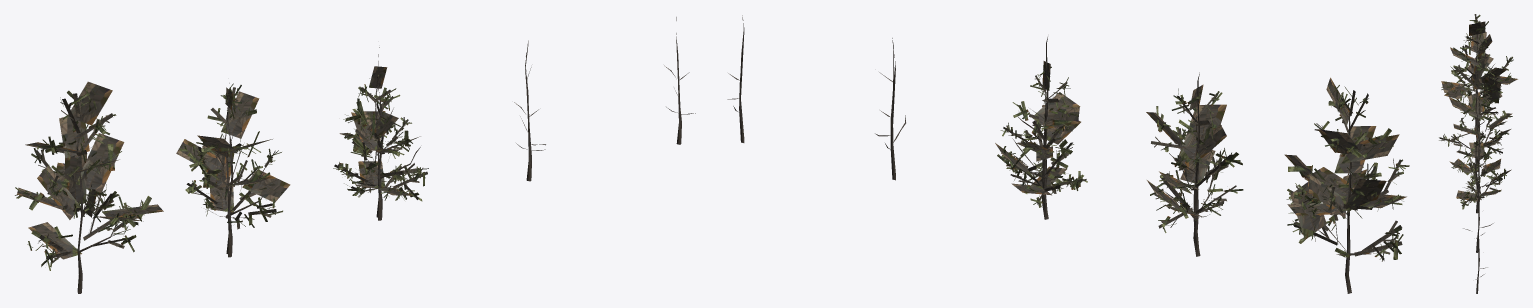
The model's file is pine_sapling_small.glb.
3 renders of one model, left to right at view 1: azimuth 30°, elevation 25°; view 2: azimuth 150°, elevation 25°; view 3: azimuth 270°, elevation 25°, orthographic. The views are drawn at different scales.
Visible parts, largest first — view 1: object 4, pine_sapling_small_c, pine_sapling_small_a, pine_sapling_small_b; view 2: object 4, pine_sapling_small_c, pine_sapling_small_a, pine_sapling_small_b; view 3: object 4, pine_sapling_small_c, pine_sapling_small_b, pine_sapling_small_a.
Part boxes in pixels (x1,y1,x2,y2): object 4: (15,66,428,270); pine_sapling_small_c: (355,17,695,220); pine_sapling_small_a: (63,89,392,293); pine_sapling_small_b: (205,53,545,257); object 4: (995,61,1409,261); pine_sapling_small_c: (727,15,1065,219); pine_sapling_small_a: (1037,90,1368,293); pine_sapling_small_b: (880,52,1217,256); object 4: (1439,14,1517,209); pine_sapling_small_c: (1463,112,1493,293); pine_sapling_small_b: (1463,71,1488,238); pine_sapling_small_a: (1464,34,1488,194).
Size of the model in its own units: 4.49 by 1.29 by 0.8253.
Materials: 2 (2 with a texture image).
